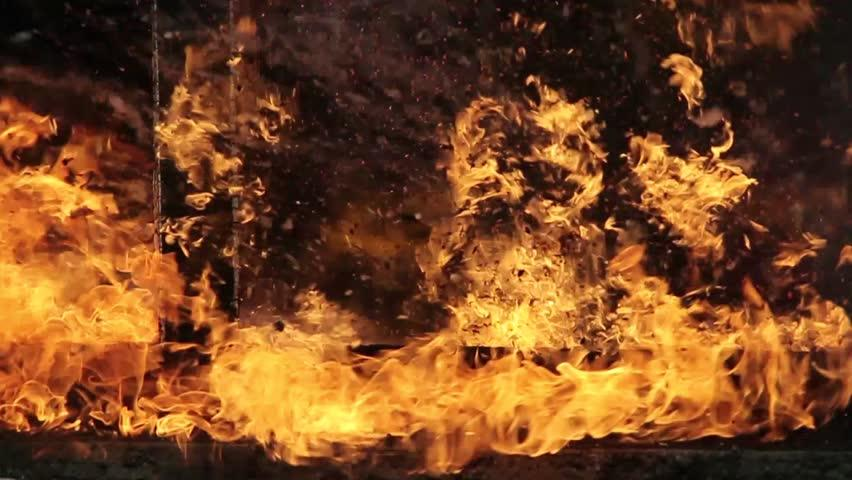Fire: (2, 10, 850, 480)
